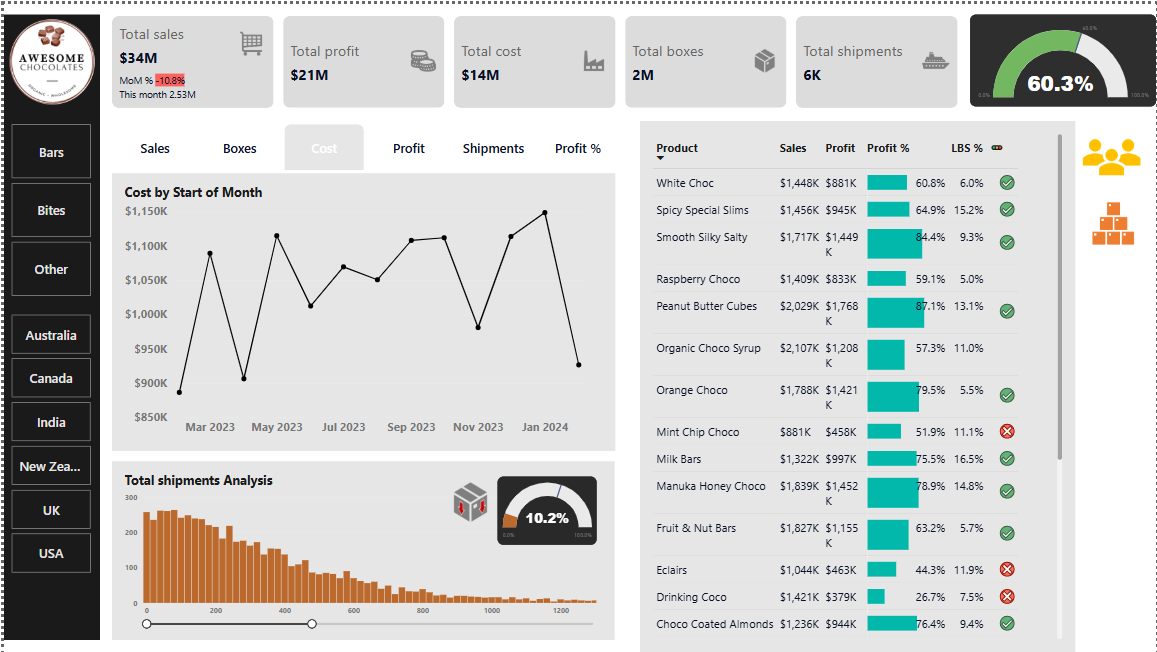

Layout of this report page (visuals, bound fields, positions):
{"tool":"powerbi","page":{"name":"Sales report","canvas":[1920,1080],"ordinal":0},"visuals":[{"type":"shape","box":[0,17.5,160,1042.5],"z":0},{"type":"cardVisual","fields":{"Data":["_measures.Total sales","_measures.Total profit","_measures.Total cost","_measures.Total boxes","_measures.Total shipments"]},"box":[179.7,19.4,1411.2,153],"z":1000},{"type":"gauge","fields":{"Y":["_measures.Profit %"]},"box":[1610.3,17,310.9,153],"z":2000},{"type":"image","box":[0,20,160,152.5],"z":3000},{"type":"lineChart","fields":{"Y":["_measures.Total cost"],"Category":["calendar.Start of Month"]},"box":[179.2,282.5,838.5,461.8],"z":4000},{"type":"advancedSlicerVisual","fields":{"Values":["Measure Selector.Measure Selector"]},"box":[180,195,852.5,87.5],"z":5000},{"type":"columnChart","title":"Total shipments Analysis","fields":{"Category":["shipments.Boxes (bins)"],"Y":["_measures.Total shipments"]},"box":[180,762.5,837.5,297.5],"z":6000},{"type":"gauge","fields":{"Y":["_measures.LBS %"]},"box":[823.4,786.9,165.2,114.2],"z":7000},{"type":"image","box":[733.5,784.5,89.9,89.9],"z":8000},{"type":"tableEx","title":"Product Details","fields":{"Values":["products.Product","_measures.Total sales","_measures.Total profit","_measures.Profit %","_measures.LBS %","_measures.Profit target indicator"]},"box":[1060,195,725,885],"z":10000},{"type":"image","title":"People Icon","box":[1785,195,122.5,120],"z":11000},{"type":"image","title":"Product Icon","box":[1792.5,315,112.5,100],"z":12000},{"type":"advancedSlicerVisual","fields":{"Values":["products.Category"]},"box":[7.5,195,142.5,297.5],"z":12001},{"type":"advancedSlicerVisual","fields":{"Values":["locations.Geo"]},"box":[7.5,512.5,142.5,442.5],"z":12002}]}

Visuals, with their boxes in screenshot pixels (x1, y1, x2, y2), scaled from the page's 1920x1080 canvas onto the 1157x652 screenshot:
shape: detection(0, 11, 96, 640)
cardVisual - _measures.Total sales x _measures.Total profit: detection(108, 12, 959, 104)
gauge - _measures.Profit %: detection(970, 10, 1156, 103)
image: detection(0, 12, 96, 104)
lineChart - _measures.Total cost x calendar.Start of Month: detection(108, 171, 613, 449)
advancedSlicerVisual - Measure Selector.Measure Selector: detection(108, 118, 622, 171)
"Total shipments Analysis" columnChart: detection(108, 460, 613, 640)
gauge - _measures.LBS %: detection(496, 475, 596, 544)
image: detection(442, 474, 496, 528)
"Product Details" tableEx: detection(639, 118, 1076, 651)
"People Icon" image: detection(1076, 118, 1149, 190)
"Product Icon" image: detection(1080, 190, 1148, 251)
advancedSlicerVisual - products.Category: detection(5, 118, 90, 297)
advancedSlicerVisual - locations.Geo: detection(5, 309, 90, 577)
